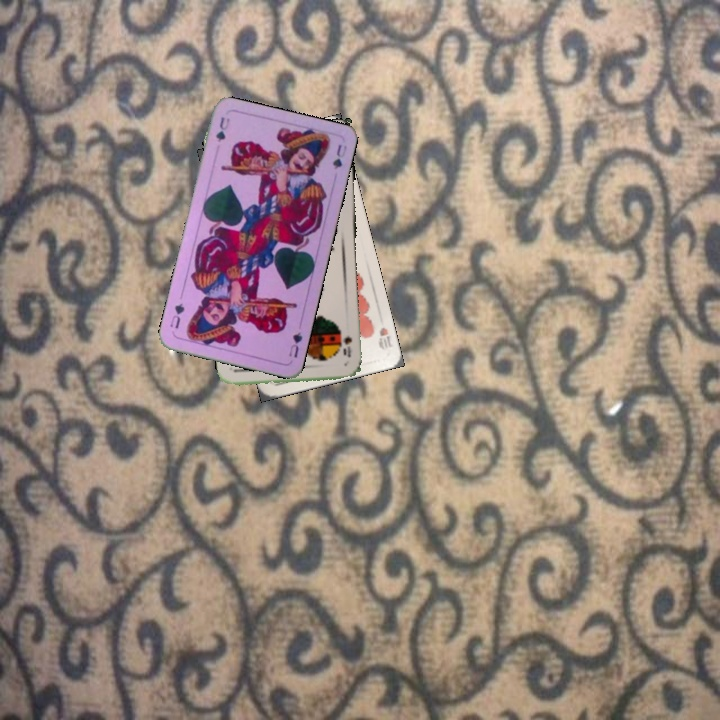GU: (284, 328, 305, 360), (212, 113, 232, 145)
H10: (374, 323, 395, 352)
SO: (339, 332, 354, 360)
